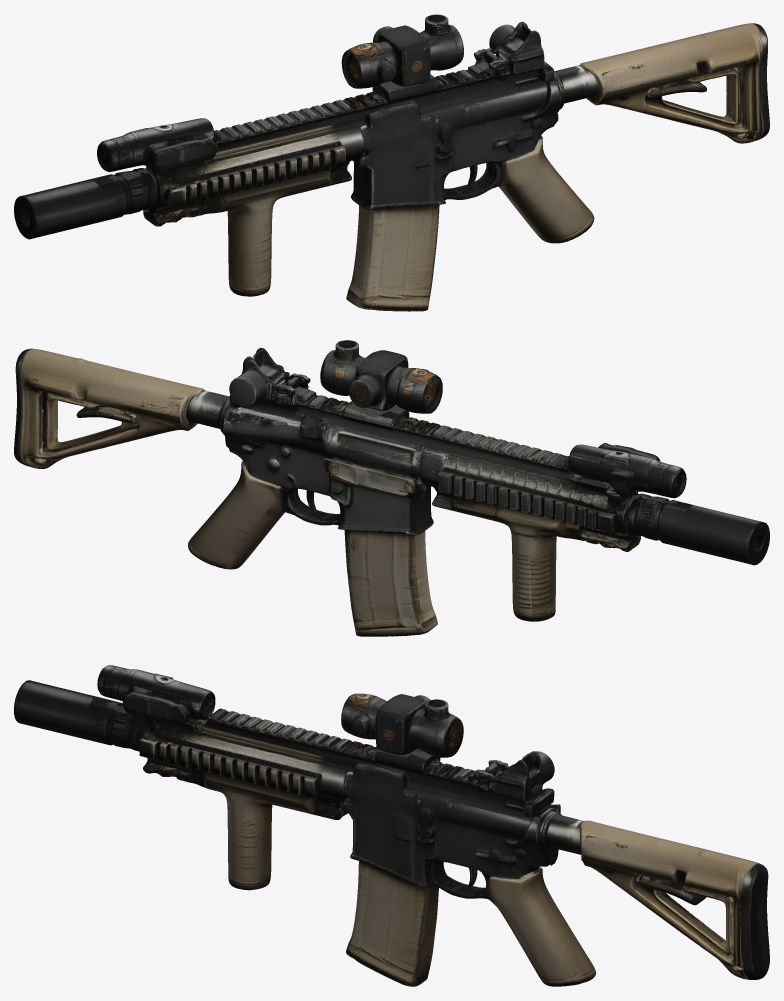
The model's file is Meshy_AI_ARME_1030013905_texture.glb.
3 views of the same model, one above another, from view 1: azimuth 30°, elevation 25°; view 2: azimuth 150°, elevation 25°; view 3: azimuth 330°, elevation 25° (orthographic).
Size of the model in its own units: 1.9 by 0.6941 by 0.1703.
1 material, 1 textured.
